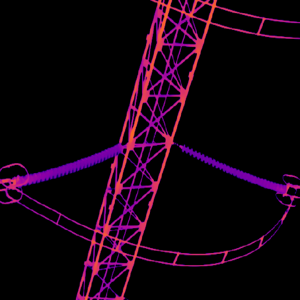insulator: (176, 140, 288, 196), (13, 140, 120, 186)
